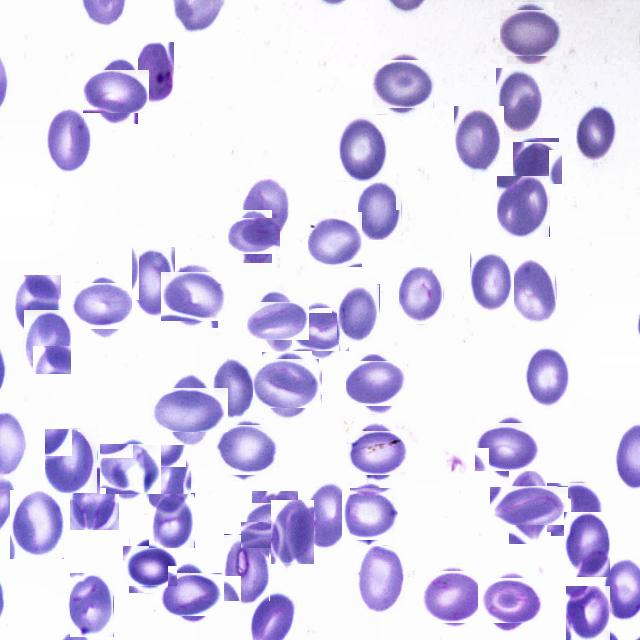red blood cell: (158, 379, 220, 441), (10, 490, 64, 559), (337, 114, 391, 182), (424, 568, 484, 626), (258, 354, 316, 414), (45, 428, 98, 493), (499, 476, 558, 534), (144, 444, 192, 515), (480, 418, 538, 476), (246, 496, 304, 554), (304, 479, 350, 551), (454, 106, 504, 172), (497, 175, 550, 237), (219, 421, 276, 478), (164, 268, 222, 324), (339, 486, 396, 542), (496, 68, 542, 137), (357, 546, 405, 612), (70, 466, 119, 530), (376, 56, 432, 112), (484, 573, 540, 629), (132, 246, 176, 317), (24, 309, 72, 374), (224, 534, 270, 601), (102, 441, 158, 496), (14, 274, 62, 338), (503, 5, 558, 60), (308, 212, 363, 267), (523, 346, 571, 409), (88, 64, 144, 118), (564, 512, 610, 577), (76, 279, 130, 334), (46, 110, 92, 174), (549, 480, 603, 534), (162, 567, 216, 621), (242, 177, 289, 238), (512, 259, 556, 324), (70, 572, 114, 637), (351, 426, 404, 479), (358, 179, 402, 242), (349, 358, 402, 410), (271, 500, 314, 564), (212, 355, 254, 419), (470, 252, 514, 312), (399, 266, 444, 324), (295, 305, 346, 355), (252, 296, 303, 346), (149, 493, 195, 548), (337, 284, 380, 342), (566, 585, 611, 640), (576, 104, 618, 162), (125, 542, 173, 590), (514, 140, 560, 186), (232, 214, 276, 259)
ring: (133, 42, 174, 104)
